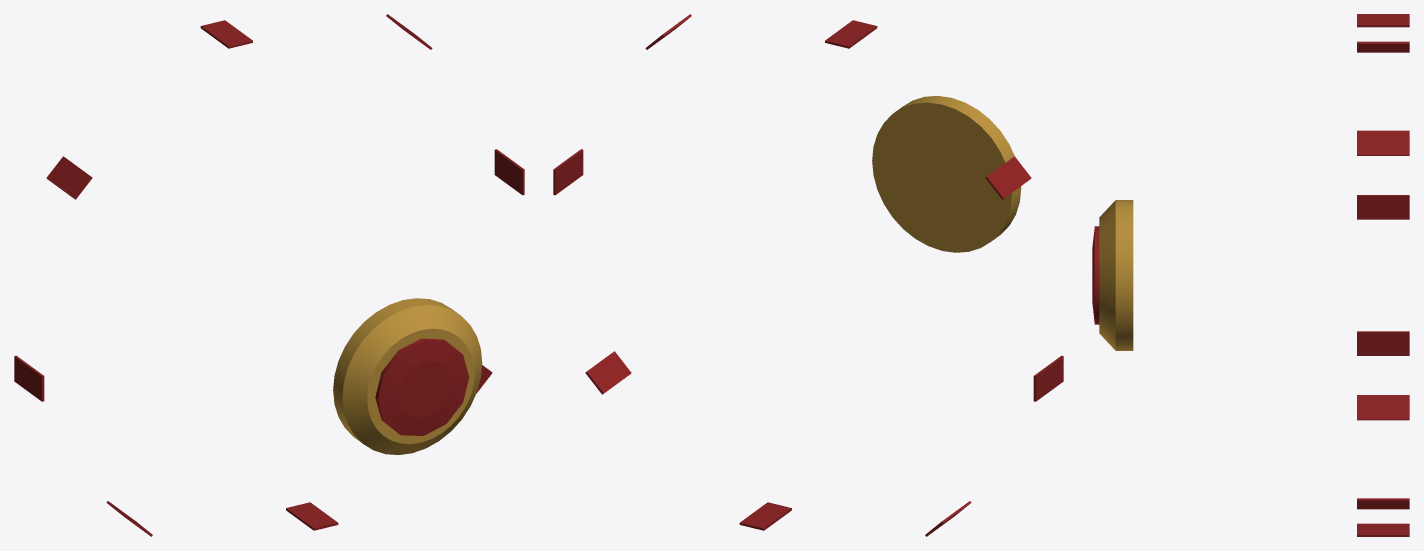
File: h5_seal.obj
3 renders of one model, left to right at view 1: azimuth 30°, elevation 25°; view 2: azimuth 150°, elevation 25°; view 3: azimuth 270°, elevation 25°, orthographic. The views are drawn at different scales.
Parts seen in each view (by area): view 1: h5_seal; view 2: h5_seal; view 3: h5_seal.
Part boxes in pixels (left/top/right/bottom): h5_seal: left=14, top=14, right=524, bottom=536; h5_seal: left=553, top=14, right=1063, bottom=536; h5_seal: left=1092, top=14, right=1409, bottom=536.
Bounding box in the file's own units: 2.22 × 2.22 × 1.35.
